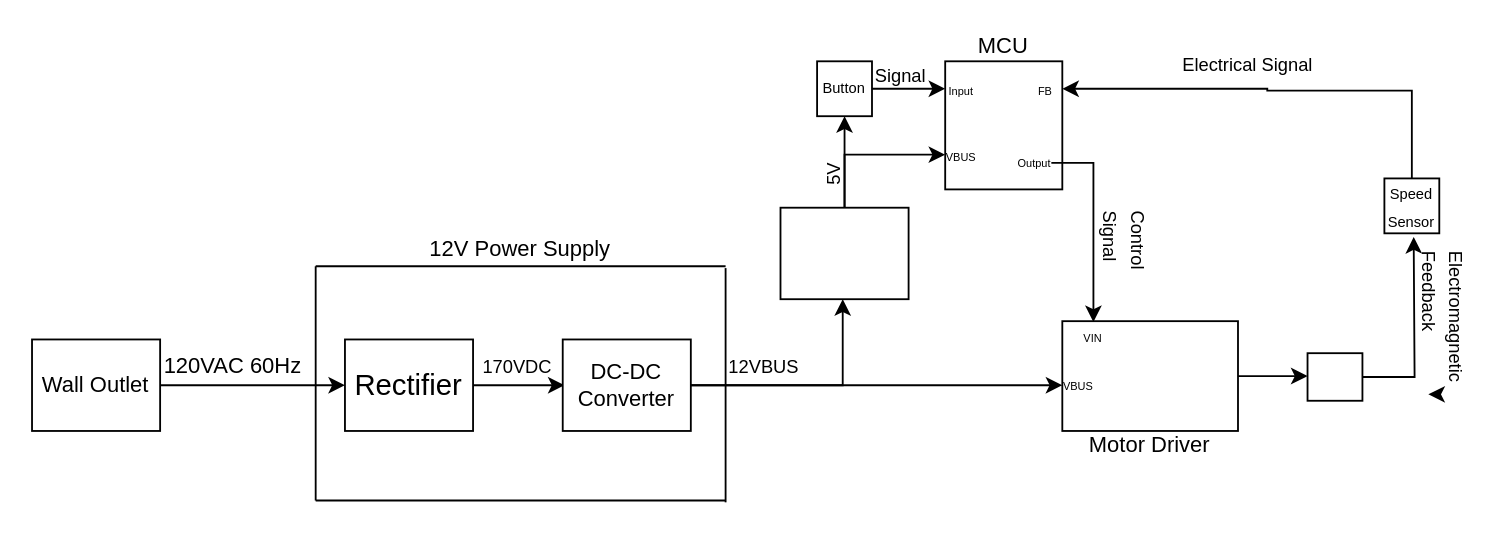
The diagram is 1502 pixels wide and 536 high, and some of its shapes have lost their labels. Here are the shapes that lost their labels. From the top down, the centre of each, then its label:
At [844,252]: "Switch-Mode DC-DC Converter".
At [1334,376]: "Fan".
